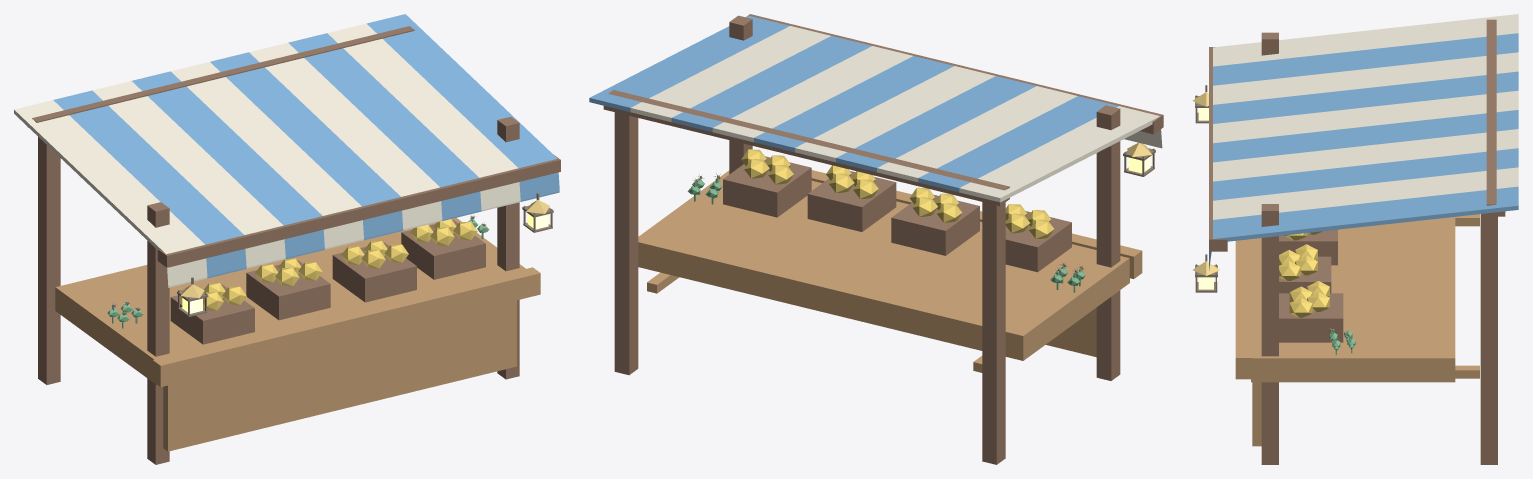
Rendered from stall-striped.glb.
3 views of the same model, side by side, from view 1: azimuth 30°, elevation 25°; view 2: azimuth 150°, elevation 25°; view 3: azimuth 270°, elevation 25° (orthographic). The views are drawn at different scales.
Visible parts, largest first — view 1: stall_striped_wood, stall_striped_fabric_cream, stall_striped_blue, stall_striped_wood_dark, stall_striped_yellow, stall_striped_metal; view 2: stall_striped_wood, stall_striped_wood_dark, stall_striped_fabric_cream, stall_striped_blue, stall_striped_yellow, stall_striped_leaf_mid; view 3: stall_striped_blue, stall_striped_fabric_cream, stall_striped_wood, stall_striped_wood_dark, stall_striped_yellow, stall_striped_metal, stall_striped_gold, stall_striped_glow.
Boxes of the visible parts, x1,y1,x2,y2 form: stall_striped_wood: (55, 218, 540, 451); stall_striped_fabric_cream: (14, 23, 520, 311); stall_striped_blue: (53, 14, 559, 278); stall_striped_wood_dark: (28, 26, 560, 464); stall_striped_yellow: (121, 219, 477, 316); stall_striped_metal: (177, 193, 553, 316); stall_striped_wood: (638, 170, 1142, 372); stall_striped_wood_dark: (603, 14, 1163, 464); stall_striped_fabric_cream: (630, 26, 1162, 275); stall_striped_blue: (589, 16, 1118, 192); stall_striped_yellow: (714, 149, 1084, 272); stall_striped_leaf_mid: (687, 177, 1085, 292); stall_striped_blue: (1209, 33, 1518, 270); stall_striped_fabric_cream: (1213, 14, 1518, 219); stall_striped_wood: (1235, 214, 1479, 446); stall_striped_wood_dark: (1209, 19, 1505, 464); stall_striped_yellow: (1279, 231, 1329, 317); stall_striped_metal: (1195, 85, 1217, 292); stall_striped_gold: (1192, 92, 1219, 275); stall_striped_glow: (1198, 108, 1213, 289).
Size of the model in its own units: 3.42 by 2.2 by 2.45.
